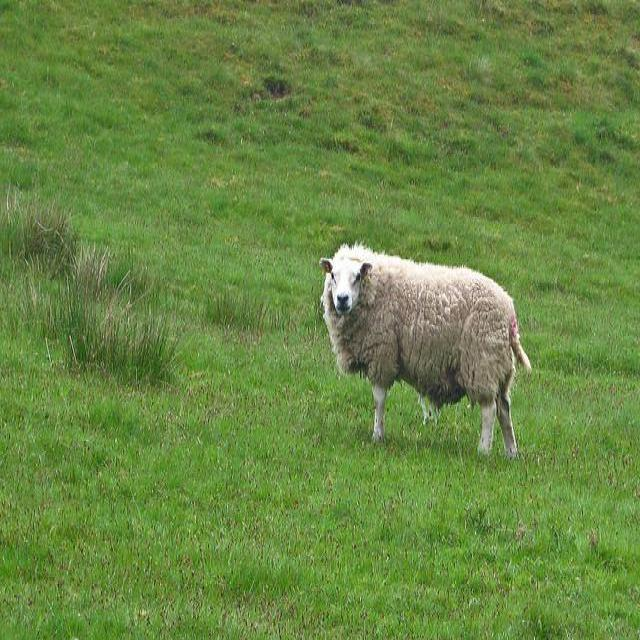Sheep: (321, 244, 533, 459)
